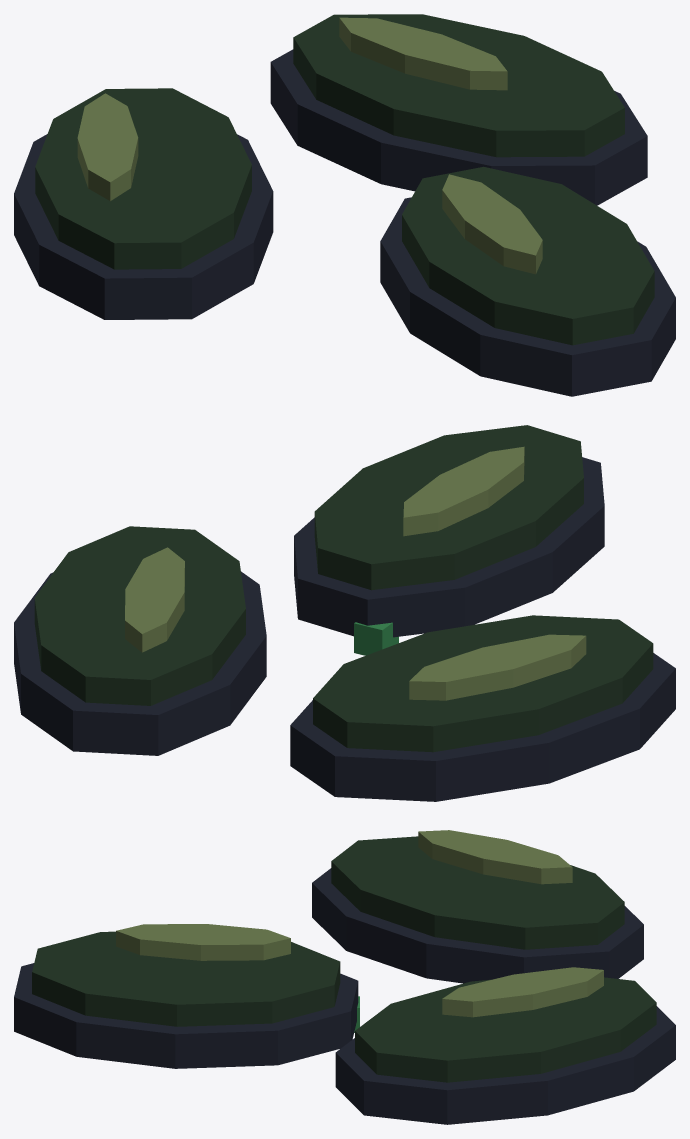
The model's file is watermelon_seeds.fbx.
The picture shows the model from 3 angles, top to bottom: view 1: azimuth 30°, elevation 25°; view 2: azimuth 150°, elevation 25°; view 3: azimuth 270°, elevation 25°; orthographic projection. The views are drawn at different scales.
Visible parts, largest first — view 1: watermelon_seeds__Icon; view 2: watermelon_seeds__Icon, watermelon_seeds__Origin; view 3: watermelon_seeds__Icon.
Boxes of the visible parts, x1,y1,x2,y2 form: watermelon_seeds__Icon: (14, 14, 675, 396); watermelon_seeds__Icon: (14, 425, 675, 801); watermelon_seeds__Origin: (354, 622, 398, 655); watermelon_seeds__Icon: (14, 830, 675, 1124).
Bounding box in the file's own units: 0.818 × 0.145 × 0.9527.
Materials: 1 (1 with a texture image).
